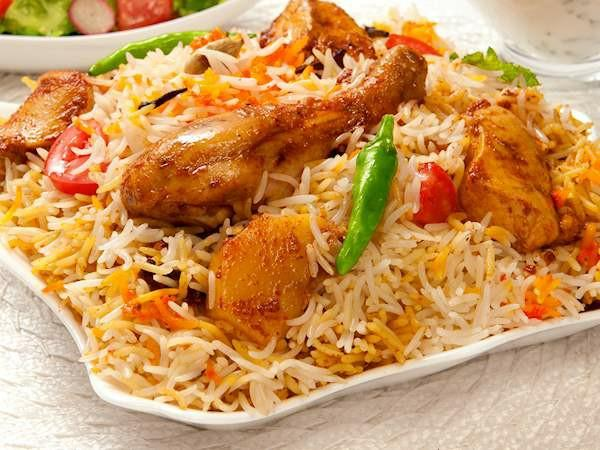Biryani: (0, 0, 600, 413)
